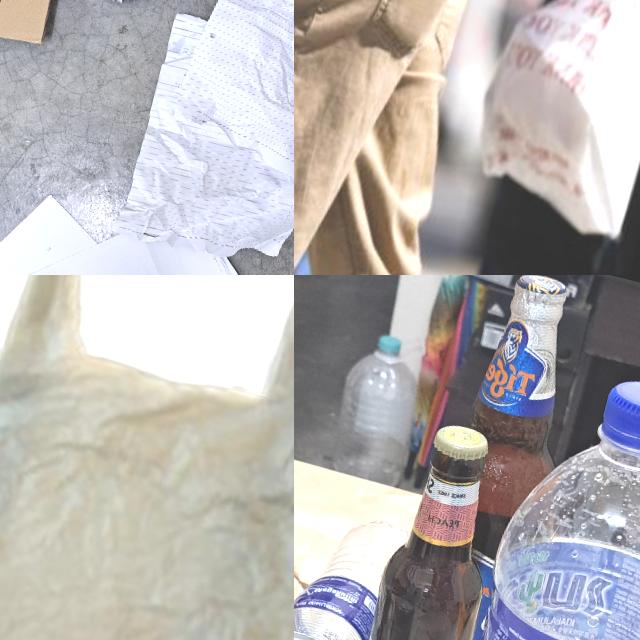garrafa de vidro: (435, 275, 594, 571), (335, 414, 527, 640)
garrafa plástica: (417, 359, 640, 640), (294, 497, 410, 640)
papel: (121, 0, 294, 275), (0, 171, 294, 275)
sacola plástica: (0, 275, 294, 640), (449, 0, 640, 263)
tampa plástica: (595, 376, 640, 459)
